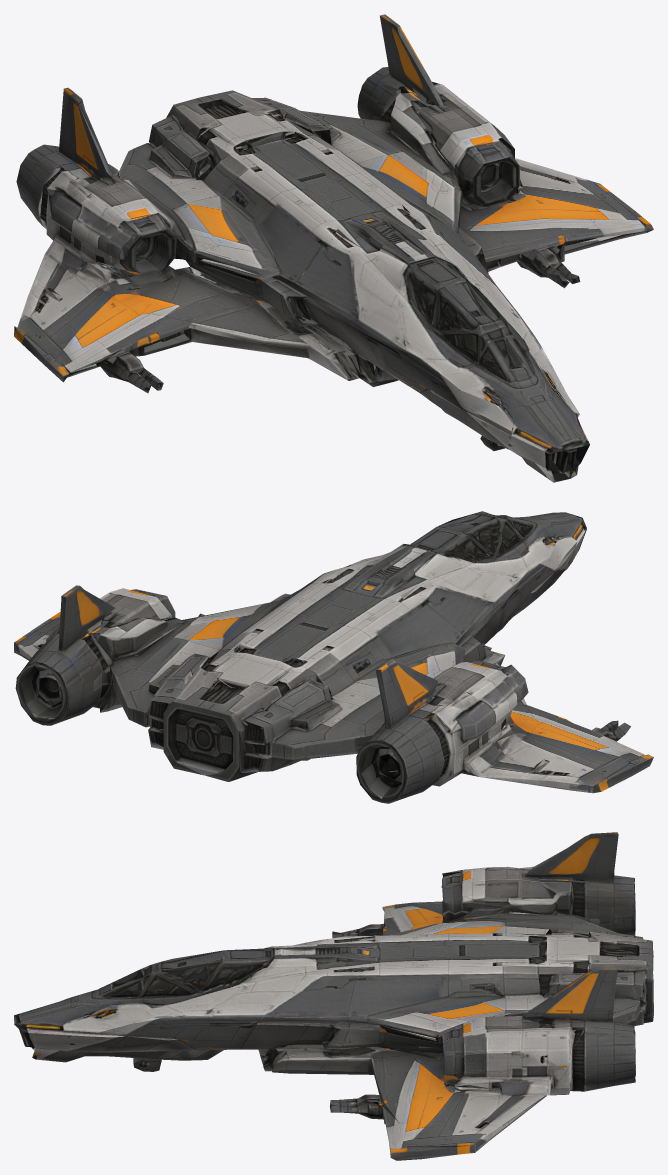
File: fighter-high.glb
The picture shows the model from 3 angles, top to bottom: view 1: azimuth 30°, elevation 25°; view 2: azimuth 150°, elevation 25°; view 3: azimuth 270°, elevation 25°; orthographic projection. The views are drawn at different scales.
Visible parts, largest first — view 1: Low; view 2: Low; view 3: Low.
Part boxes in pixels (bbox=[...]): Low: bbox=[14, 14, 653, 482]; Low: bbox=[14, 511, 653, 803]; Low: bbox=[14, 832, 653, 1160].
Size of the model in its own units: 1.66 by 0.5274 by 1.79.
Materials: 1 (1 with a texture image).
